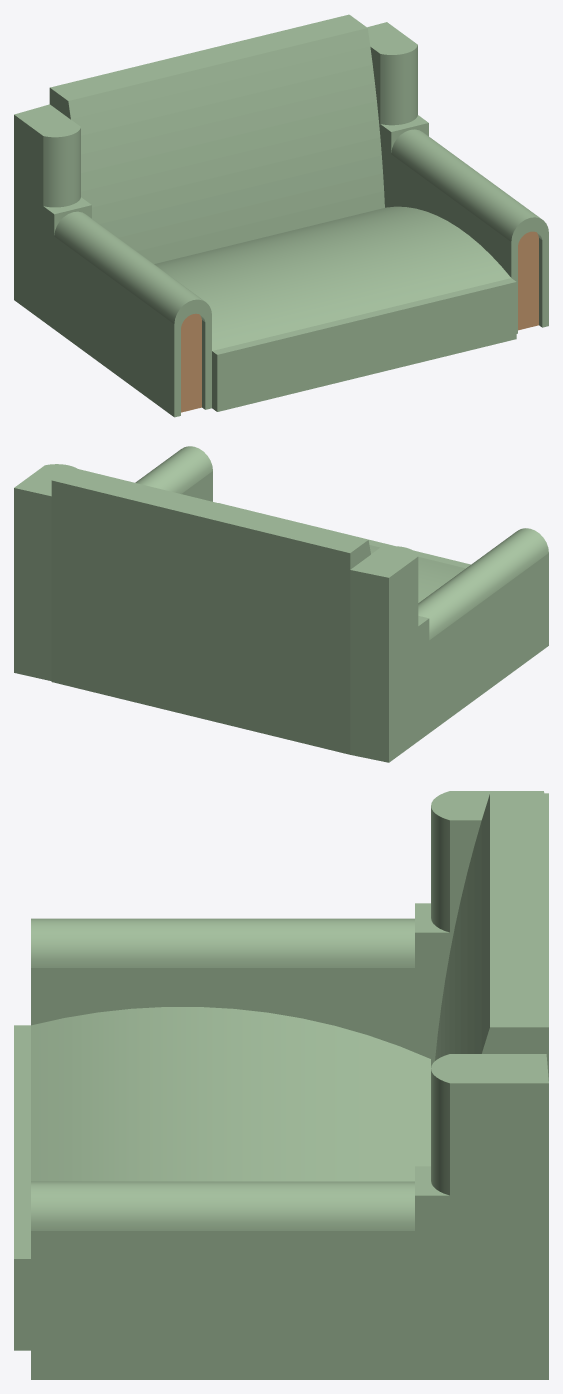
3 views of the same model, one above another, from view 1: azimuth 30°, elevation 25°; view 2: azimuth 150°, elevation 25°; view 3: azimuth 270°, elevation 25° (orthographic). The views are drawn at different scales.
Parts seen in each view (by area): view 1: Mesh1_Component1_Model; view 2: Mesh1_Component1_Model; view 3: Mesh1_Component1_Model.
Part boxes in pixels (x1,y1,x2,y2): Mesh1_Component1_Model: [14, 14, 548, 417]; Mesh1_Component1_Model: [14, 446, 548, 762]; Mesh1_Component1_Model: [14, 791, 548, 1379].
Bounding box in the file's own units: 1.97 × 1.52 × 1.02.
